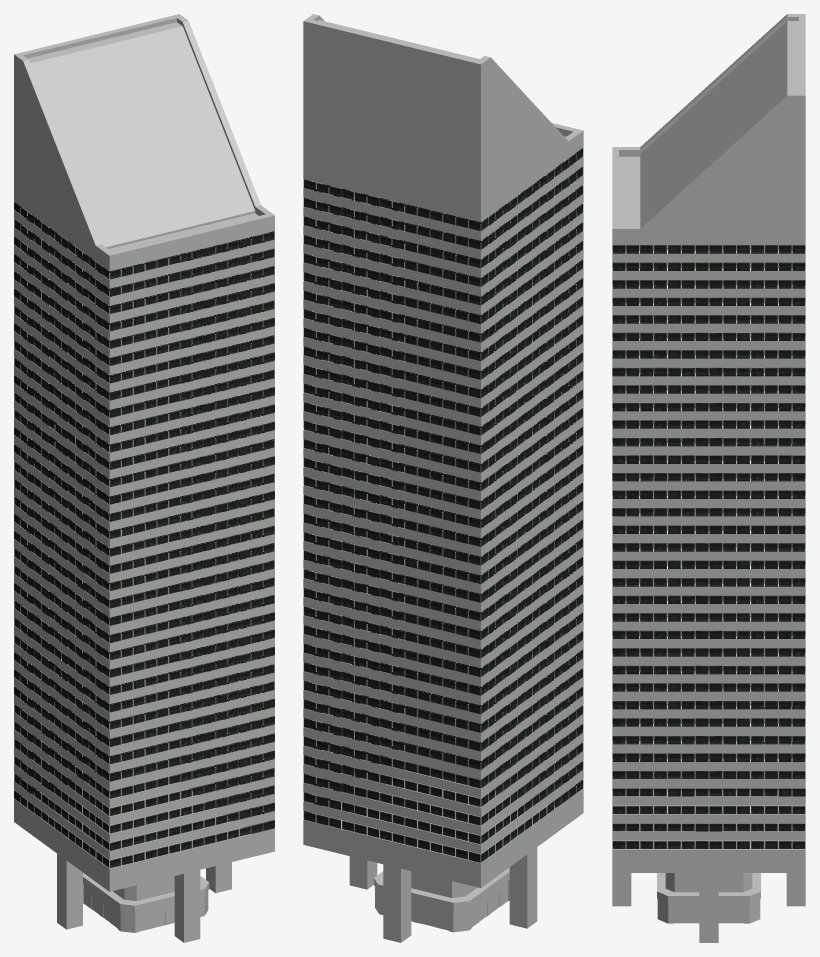
3 views of the same model, side by side, from view 1: azimuth 30°, elevation 25°; view 2: azimuth 150°, elevation 25°; view 3: azimuth 270°, elevation 25° (orthographic). The views are drawn at different scales.
Visible parts, largest first — view 1: EC-043; view 2: EC-043; view 3: EC-043.
Part boxes in pixels (box(x1,y1,x2,y2)): EC-043: box(14, 14, 274, 942); EC-043: box(303, 14, 583, 942); EC-043: box(612, 14, 805, 942).
Size of what is drawn, in the model's own units: 30 by 145 by 30.
